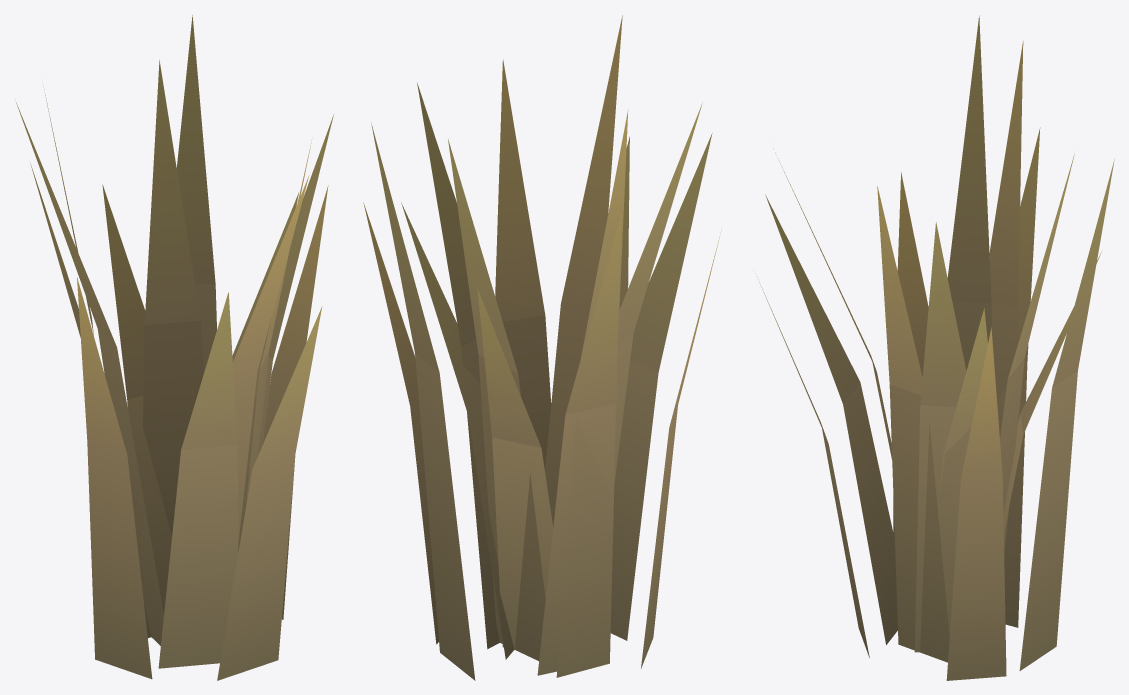
The model's file is grass_tuft.glb.
3 views of the same model, side by side, from view 1: azimuth 30°, elevation 25°; view 2: azimuth 150°, elevation 25°; view 3: azimuth 270°, elevation 25° (orthographic). The views are drawn at different scales.
Visible parts, largest first — view 1: grass_tuft; view 2: grass_tuft; view 3: grass_tuft.
Boxes of the visible parts, x1,y1,x2,y2 form: grass_tuft: [16, 15, 333, 680]; grass_tuft: [363, 15, 721, 680]; grass_tuft: [758, 15, 1114, 680].
Bounding box in the file's own units: 0.3826 × 0.6519 × 0.3916.
